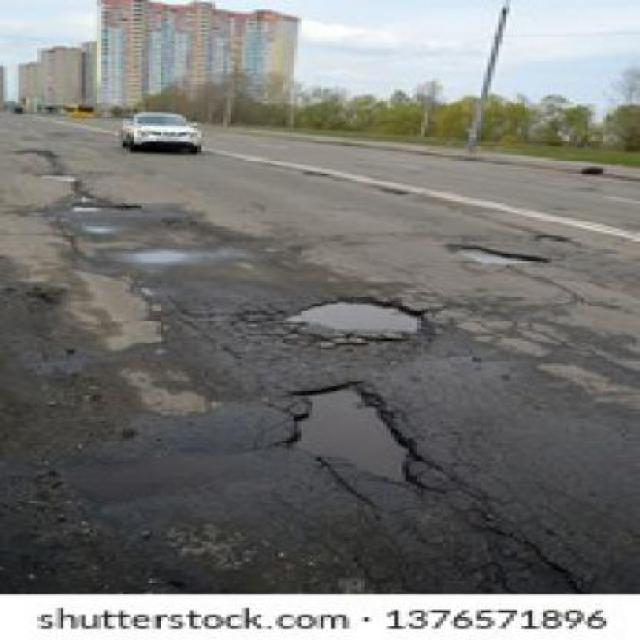Pothole: (287, 375, 432, 486), (290, 291, 430, 347), (449, 239, 562, 272)
